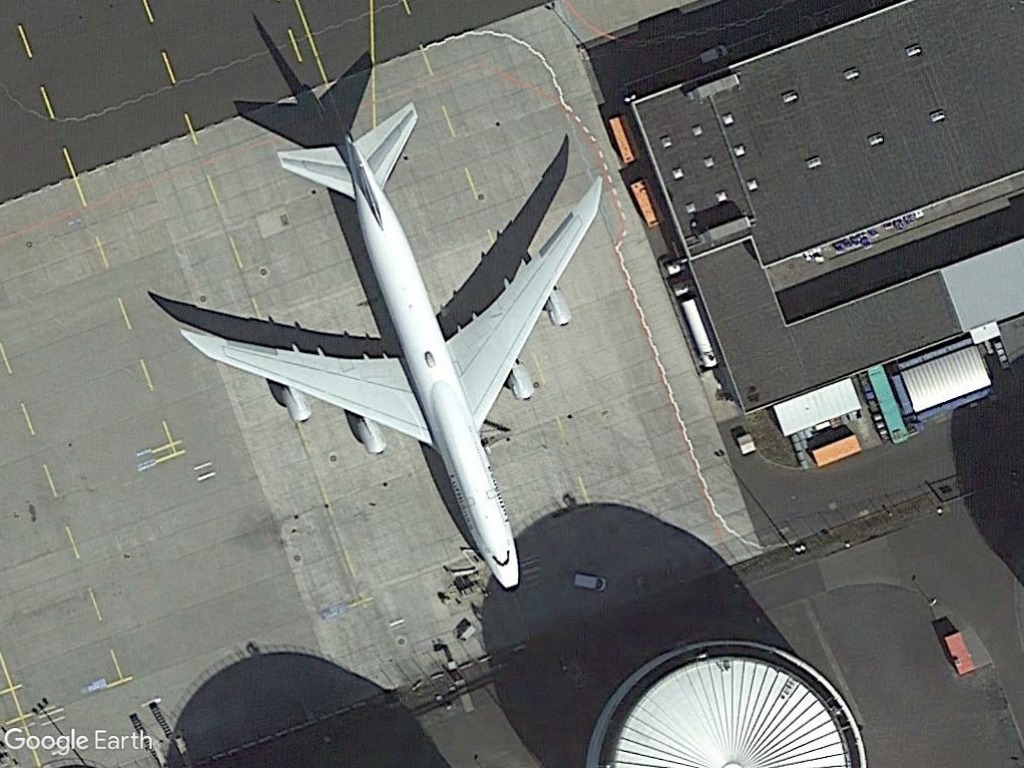airliner: (172, 95, 611, 599)
